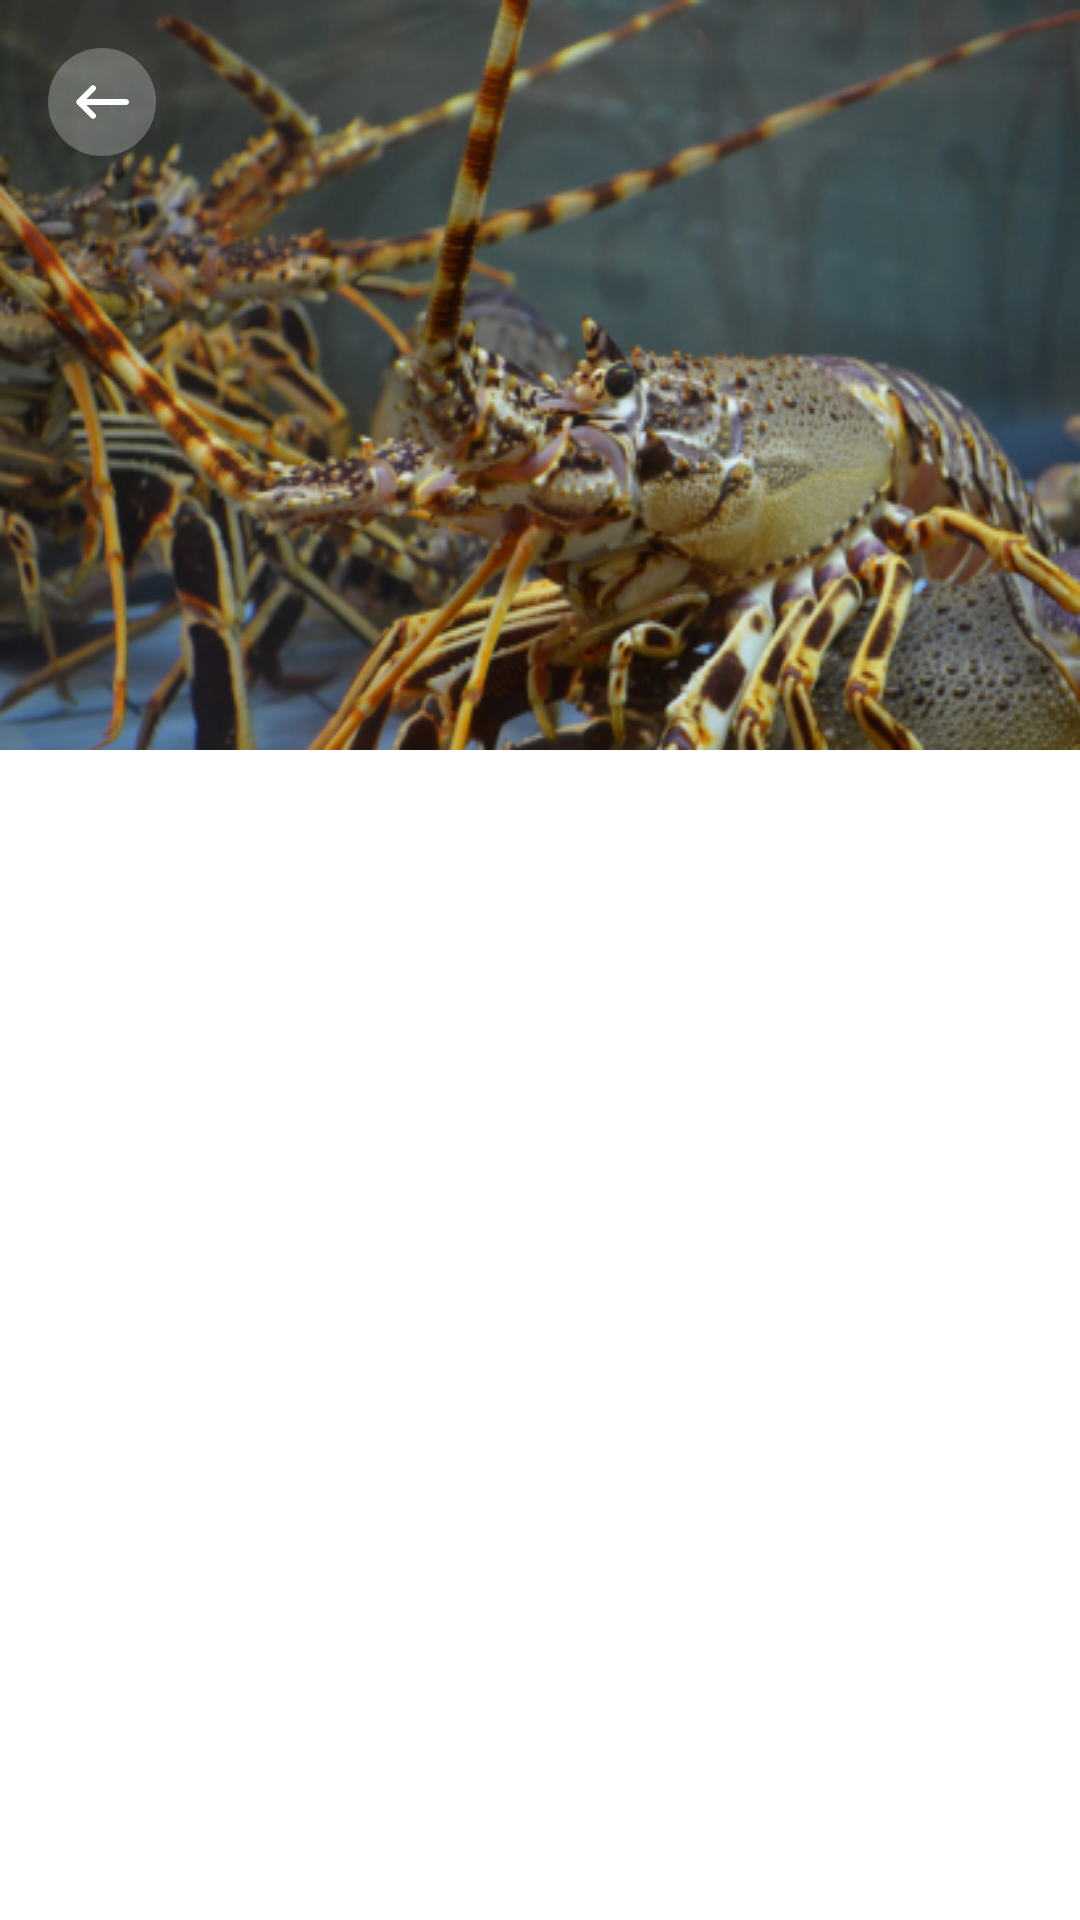

Icon click points for this 1080px×1920px phone screenshot, format [x,y]:
back: [102,102]
